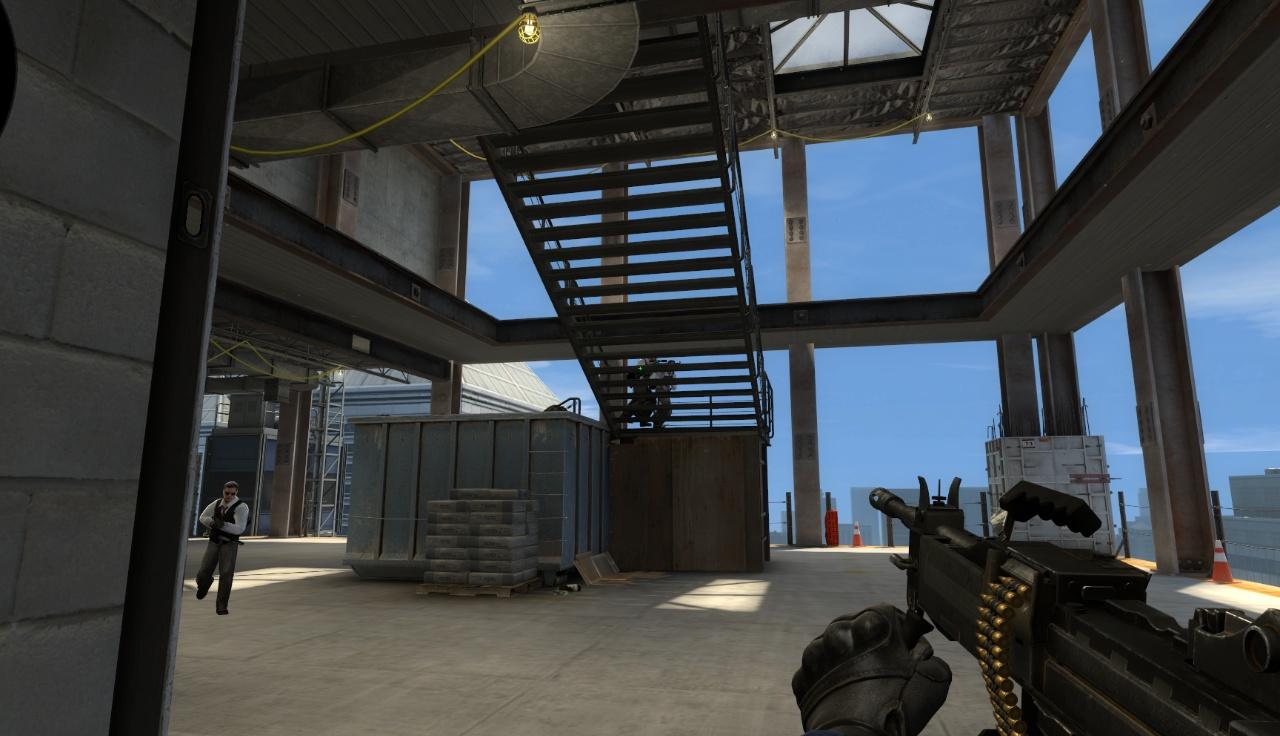rifle: (848, 469, 1280, 736)
tt: (200, 479, 245, 610), (653, 361, 675, 417), (632, 356, 654, 408)
tthead: (221, 481, 239, 502)
